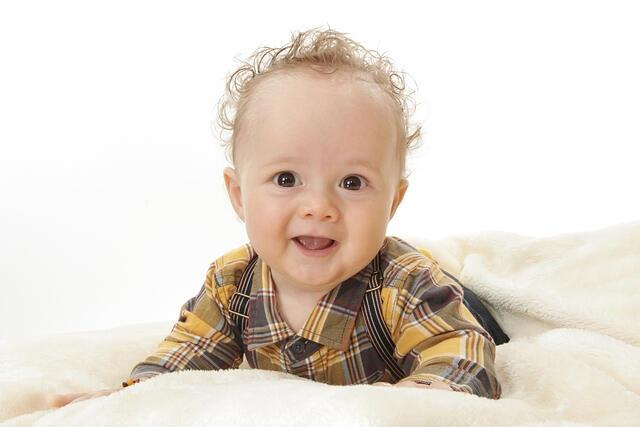Healthy: (209, 50, 415, 288)
